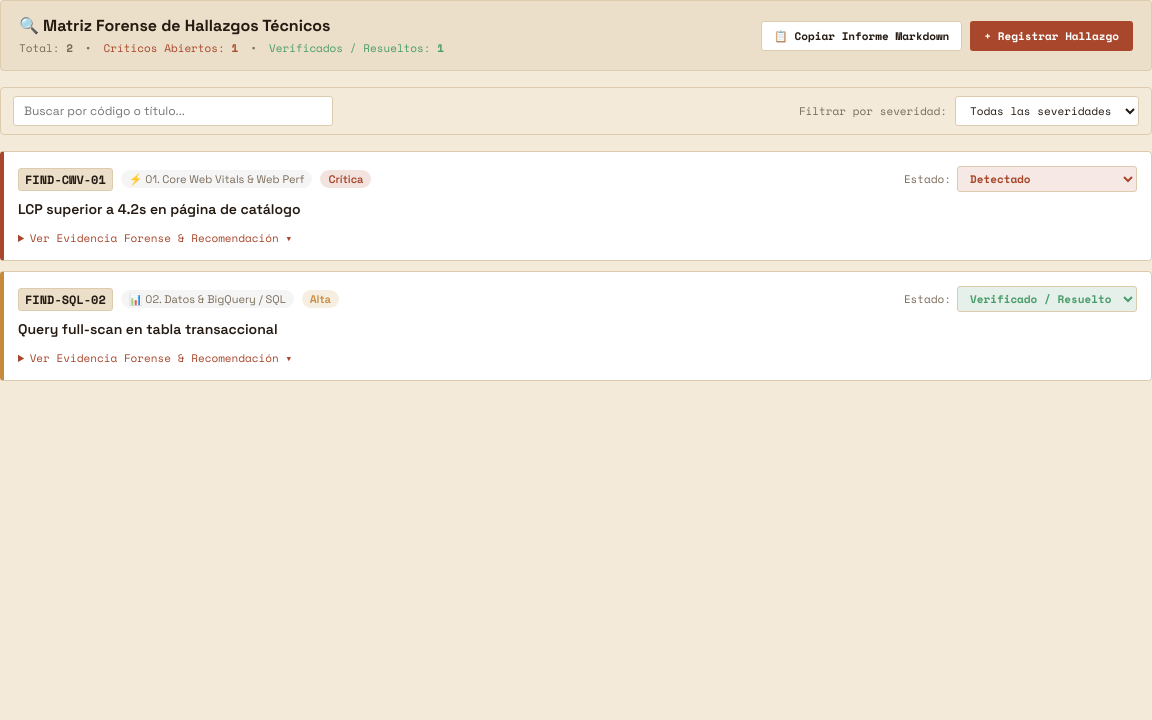
Test case: ProjectAuditFindings Component › permite abrir el formulario de nuevo hallazgo
The width and height of the screenshot is (1152, 720).
Click the button "+ Registrar Hallazgo".
click(1052, 36)  # box [970,20,1133,50]
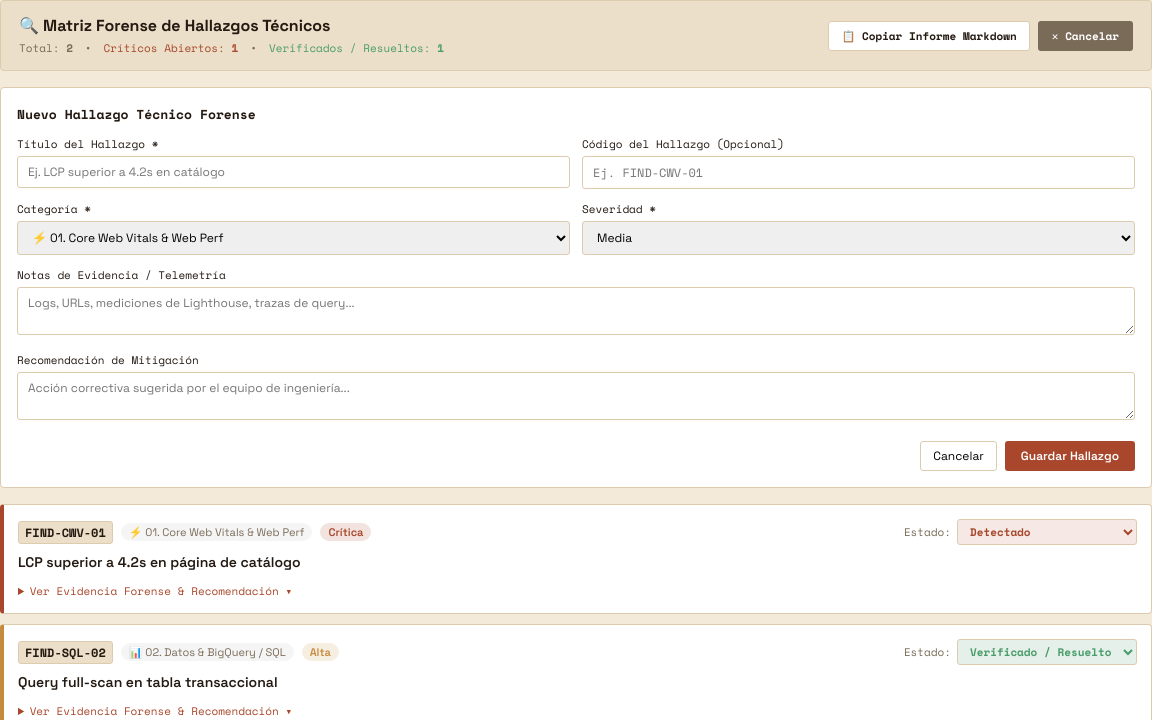
Now the field labelled "Título del Hallazgo *" is shown, box [17,156,570,188]
Now the dropdown labelled "Severidad *" is shown, box [582,221,1135,255]
